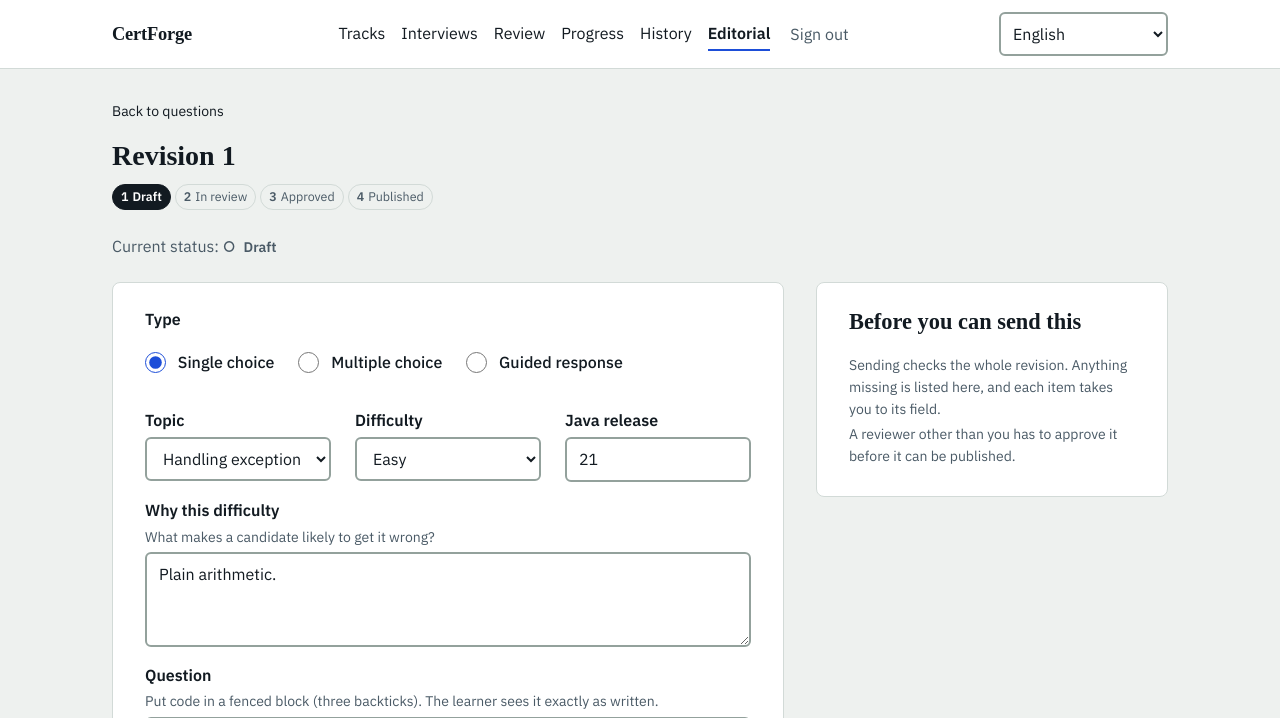
Test case: unsaved changes › lets the person leave freely when nothing has changed
Click the link "Back to questions": (168, 111) [112,102,224,120]
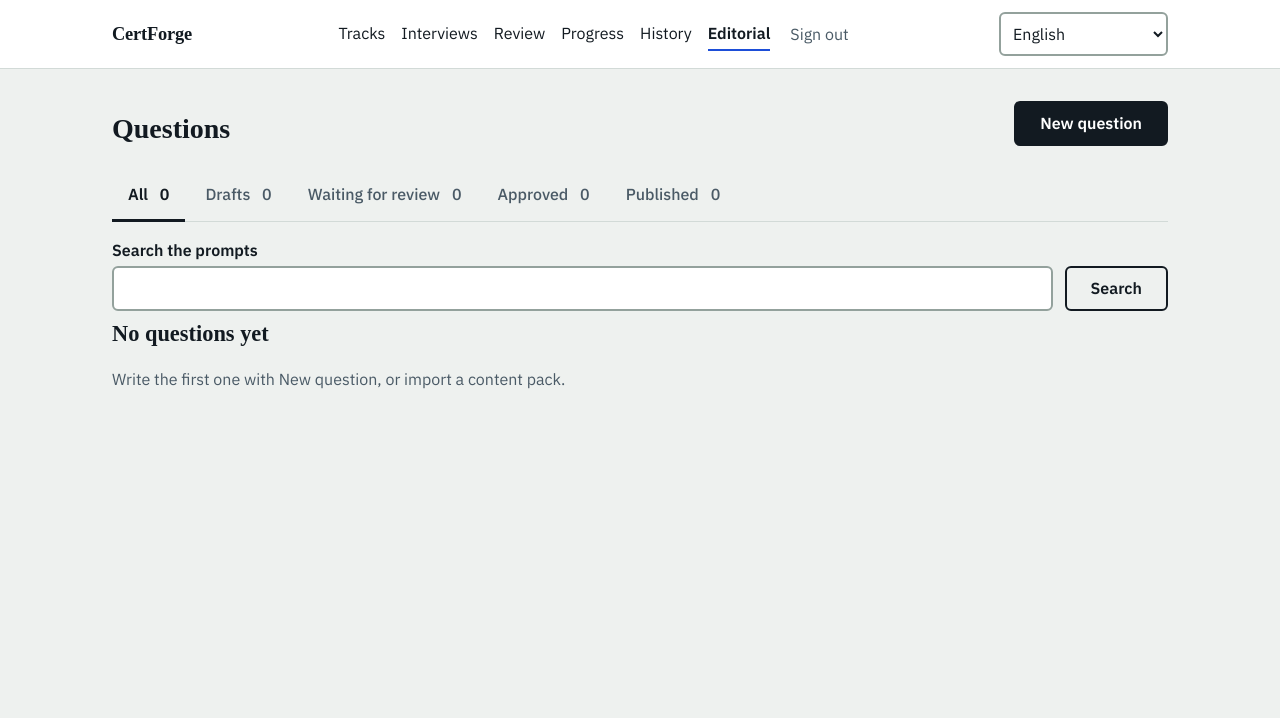
Now the heading "Questions" is shown, box [112,112,230,146]
